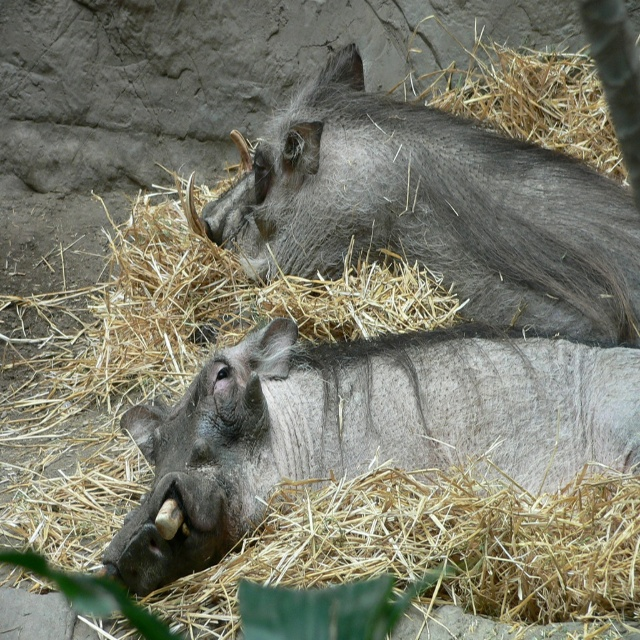Pig: (101, 317, 640, 597), (186, 39, 640, 348)
